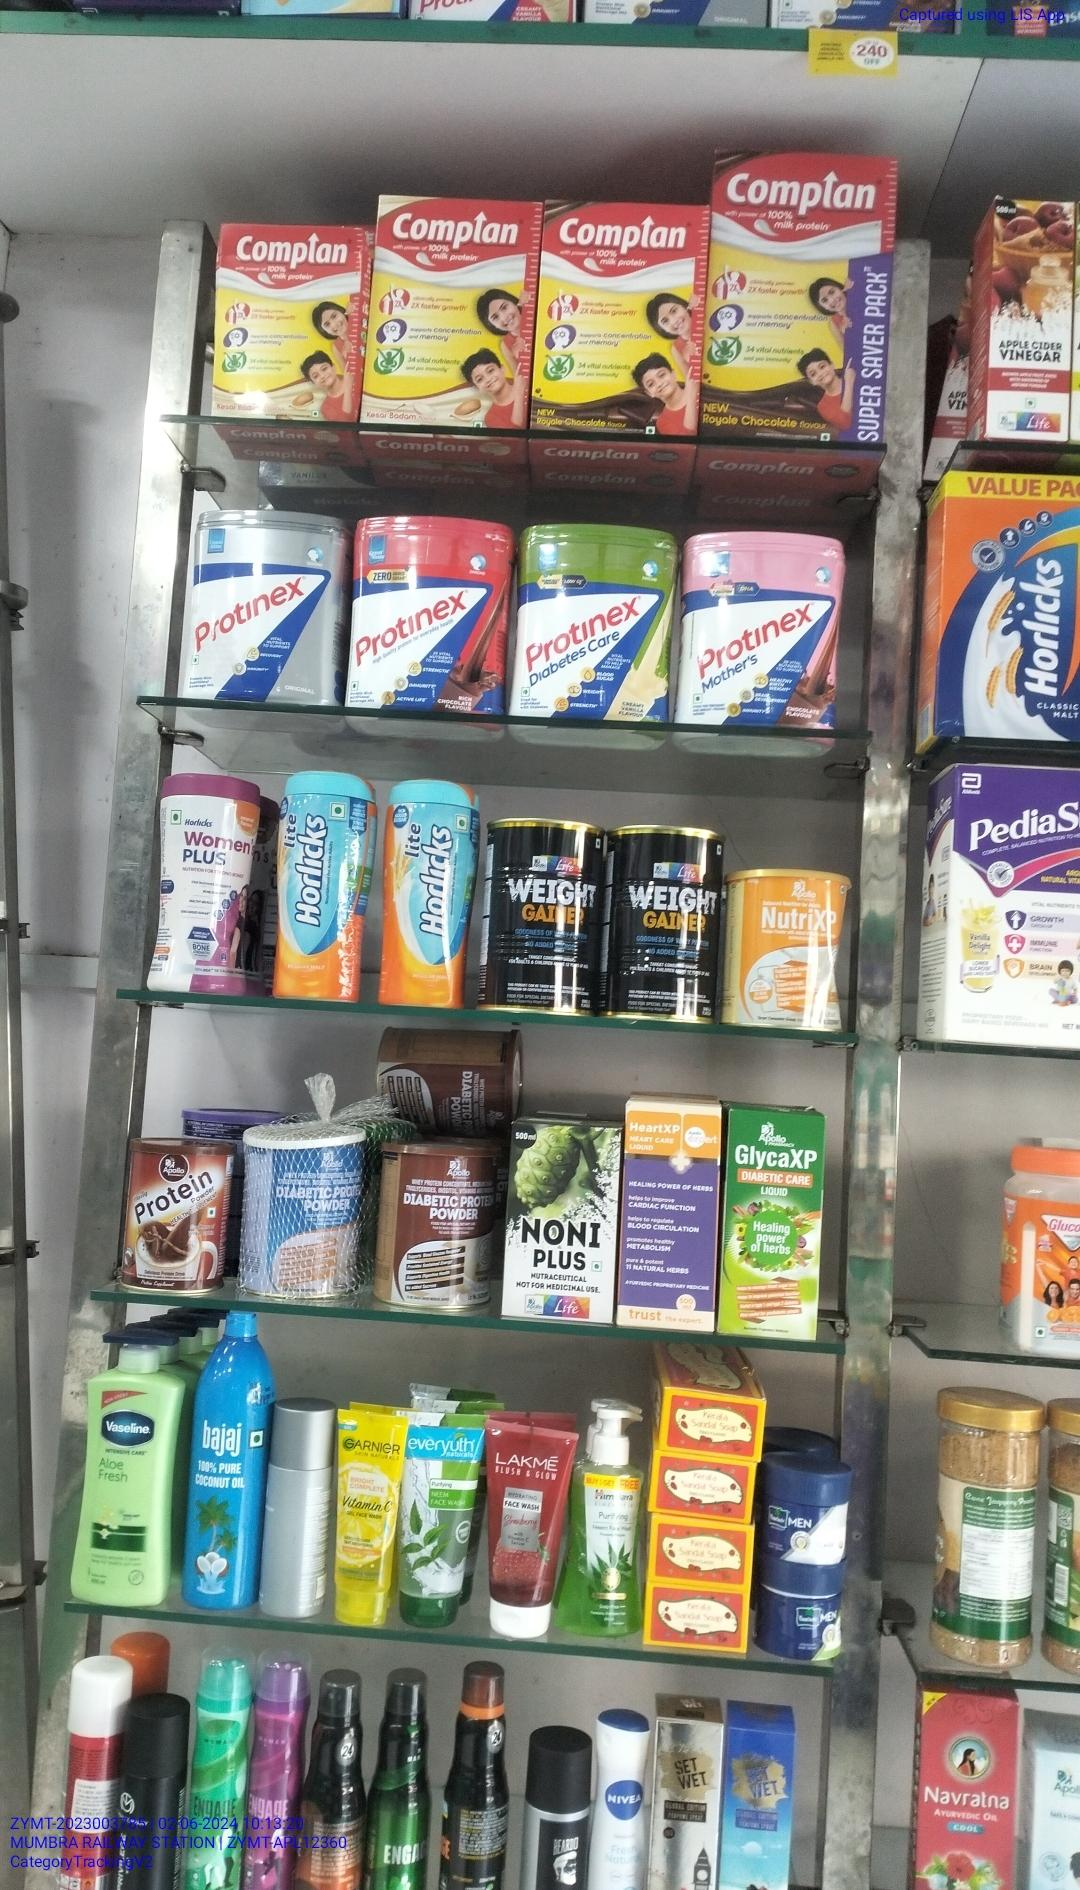HORLICKS_LITE_REGULAR_MALT_500_GM_JAR: (275, 766, 367, 1003), (384, 776, 470, 1011)
PROTINEX_CHOCOLATE_400_G_JAR: (354, 513, 504, 715)
PROTINEX_ORIGINAL_400_G_JAR: (188, 511, 340, 705)
